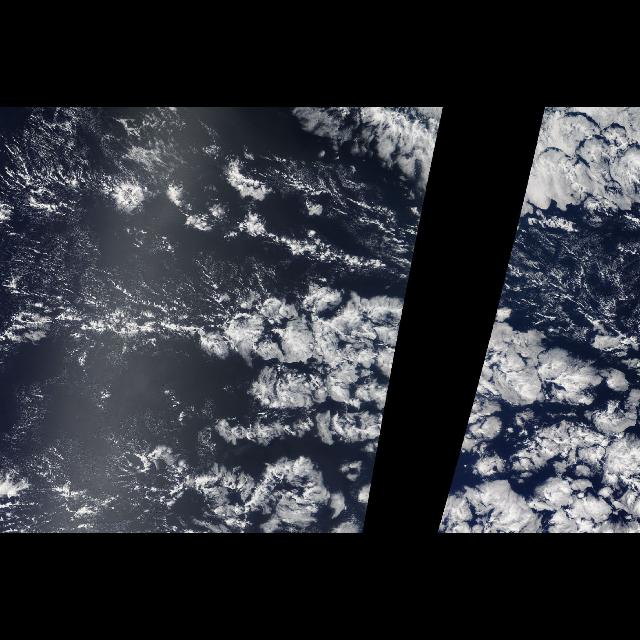Flower: (26, 122, 404, 532), (436, 310, 634, 532)
Gravel: (18, 334, 205, 528)
Sugar: (0, 116, 110, 362)
